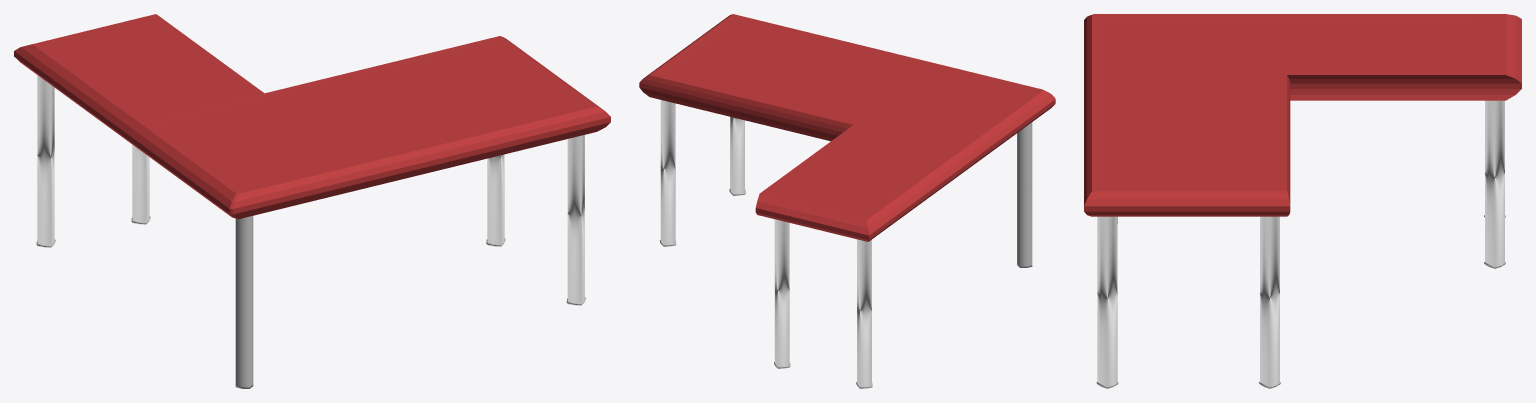
The model's file is ComputerDesk.glb.
3 views of the same model, side by side, from view 1: azimuth 30°, elevation 25°; view 2: azimuth 150°, elevation 25°; view 3: azimuth 270°, elevation 25° (orthographic). The views are drawn at different scales.
Parts seen in each view (by area): view 1: ComputerTable, ComputerTableLeg, 5ComputerTableLeg, 2ComputerTableLeg, 4ComputerTableLeg, 3 ComputerTableLeg; view 2: ComputerTable, 3 ComputerTableLeg, 4ComputerTableLeg, ComputerTableLeg, 2ComputerTableLeg, 5ComputerTableLeg; view 3: ComputerTable, 5ComputerTableLeg, 4ComputerTableLeg, 3 ComputerTableLeg.
Boxes of the visible parts, x1=… form: ComputerTable: x1=14, y1=14, x2=610, y2=218; ComputerTableLeg: x1=235, y1=216, x2=253, y2=388; 5ComputerTableLeg: x1=566, y1=135, x2=585, y2=305; 2ComputerTableLeg: x1=36, y1=75, x2=55, y2=247; 4ComputerTableLeg: x1=486, y1=154, x2=505, y2=246; 3 ComputerTableLeg: x1=131, y1=144, x2=150, y2=224; ComputerTable: x1=639, y1=14, x2=1055, y2=241; 3 ComputerTableLeg: x1=774, y1=219, x2=790, y2=368; 4ComputerTableLeg: x1=659, y1=100, x2=676, y2=246; ComputerTableLeg: x1=1017, y1=122, x2=1032, y2=267; 2ComputerTableLeg: x1=856, y1=239, x2=872, y2=388; 5ComputerTableLeg: x1=729, y1=117, x2=745, y2=195; ComputerTable: x1=1084, y1=14, x2=1521, y2=216; 5ComputerTableLeg: x1=1096, y1=216, x2=1118, y2=388; 4ComputerTableLeg: x1=1259, y1=216, x2=1280, y2=388; 3 ComputerTableLeg: x1=1484, y1=100, x2=1505, y2=268.
Bounding box in the file's own units: 3.73 × 1.88 × 3.68.
